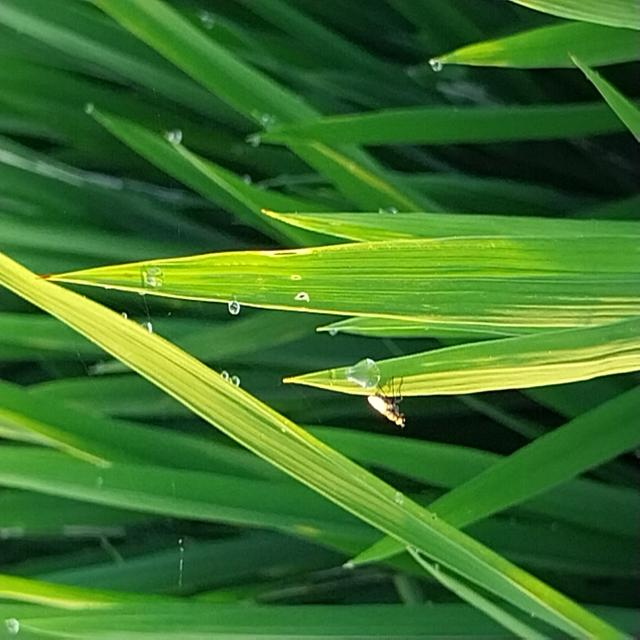healthy: (356, 384, 416, 437)
